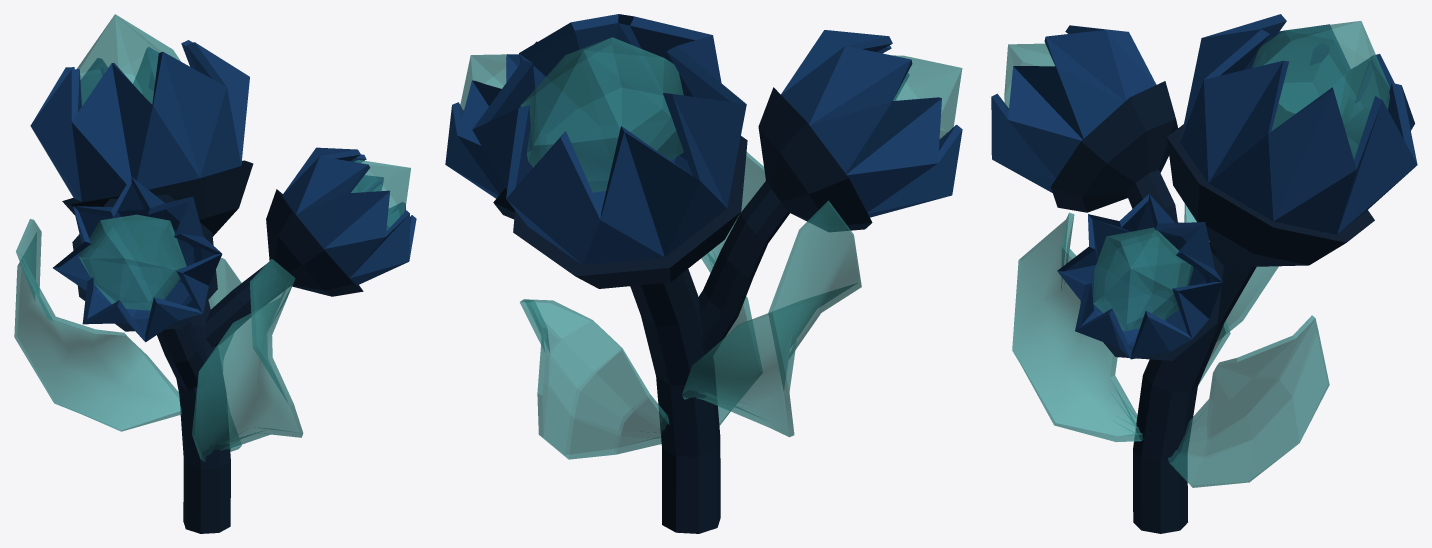
Rendered from obj_plant_stg1_crystal.FBX.
The picture shows the model from 3 angles, left to right: view 1: azimuth 30°, elevation 25°; view 2: azimuth 150°, elevation 25°; view 3: azimuth 270°, elevation 25°; orthographic projection. The views are drawn at different scales.
Visible parts, largest first — view 1: obj_plant_stg1_crystal; view 2: obj_plant_stg1_crystal; view 3: obj_plant_stg1_crystal.
Boxes of the visible parts, x1,y1,x2,y2 form: obj_plant_stg1_crystal: (14, 14, 416, 533); obj_plant_stg1_crystal: (445, 14, 962, 533); obj_plant_stg1_crystal: (991, 14, 1417, 533).
Size of the model in its own units: 4.63 by 5.33 by 4.12.
